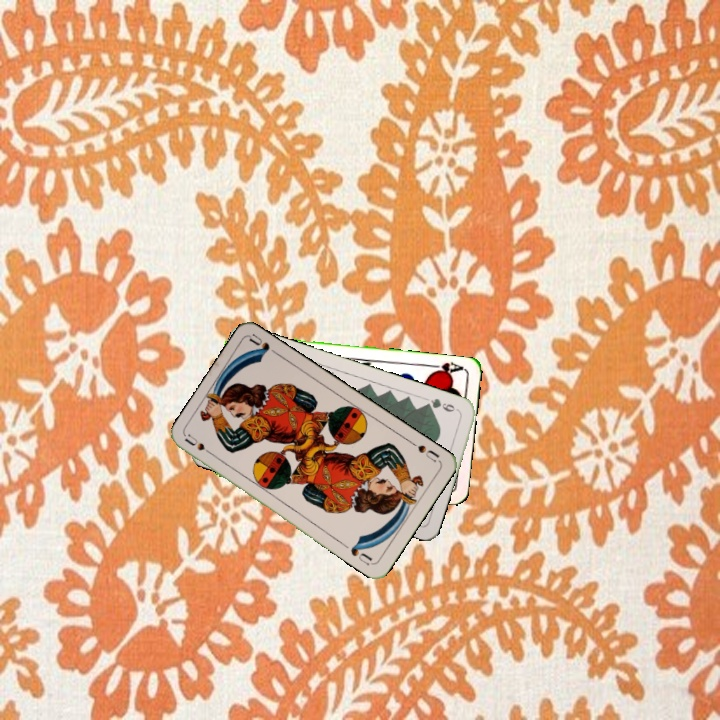G9: (421, 394, 462, 414)
HA: (425, 358, 466, 378)
SU: (181, 430, 219, 460), (406, 437, 442, 465)
